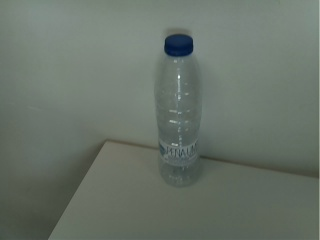botella plastico: (152, 32, 206, 190)
